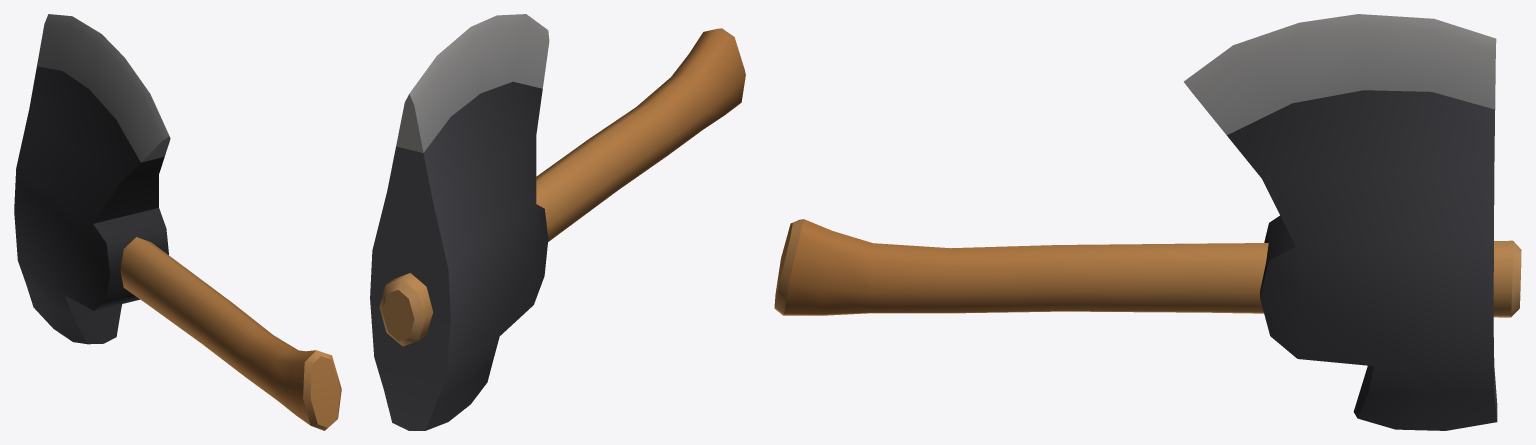
File: Melee_Axe.fbx
3 renders of one model, left to right at view 1: azimuth 30°, elevation 25°; view 2: azimuth 150°, elevation 25°; view 3: azimuth 270°, elevation 25°, orthographic. The views are drawn at different scales.
Parts seen in each view (by area): view 1: Melee_Axe; view 2: Melee_Axe; view 3: Melee_Axe.
Part boxes in pixels (x1,y1,x2,y2): Melee_Axe: (14, 14, 341, 430); Melee_Axe: (370, 14, 745, 430); Melee_Axe: (774, 14, 1521, 430).
Bounding box in the file's own units: 0.1104 × 0.4776 × 0.7807.
